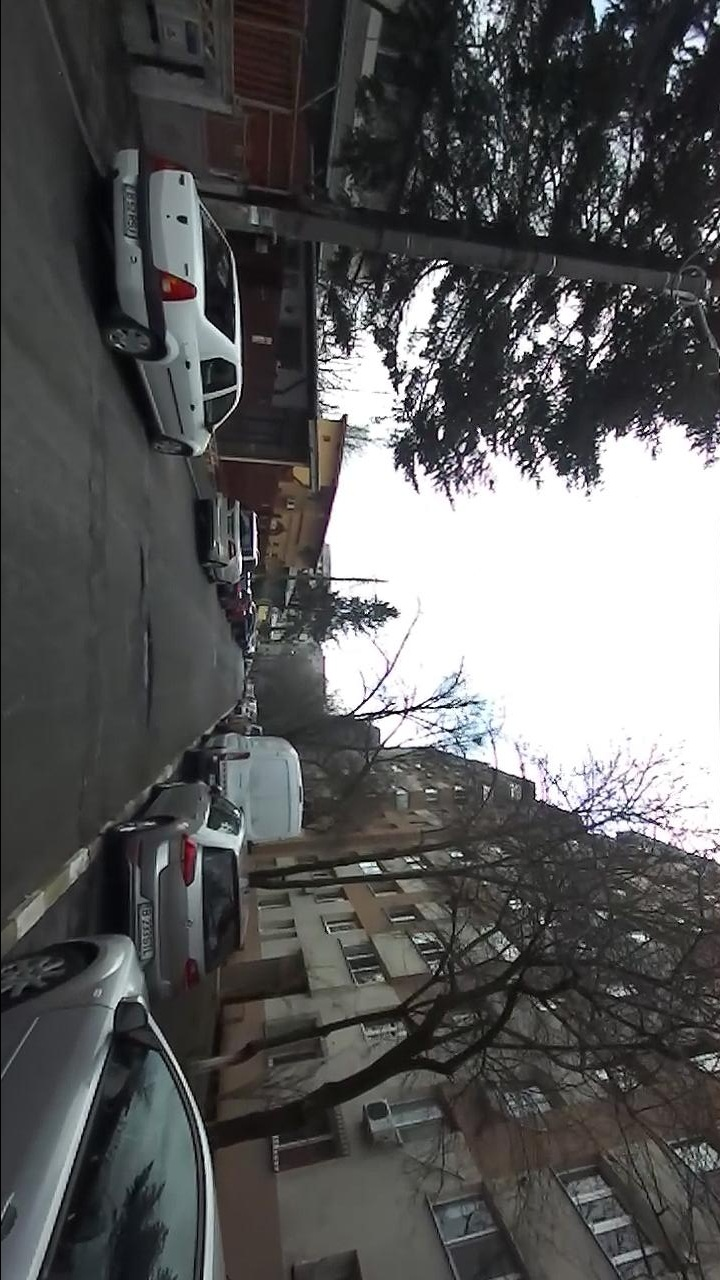pothole: (141, 616, 157, 732), (137, 543, 149, 606)
